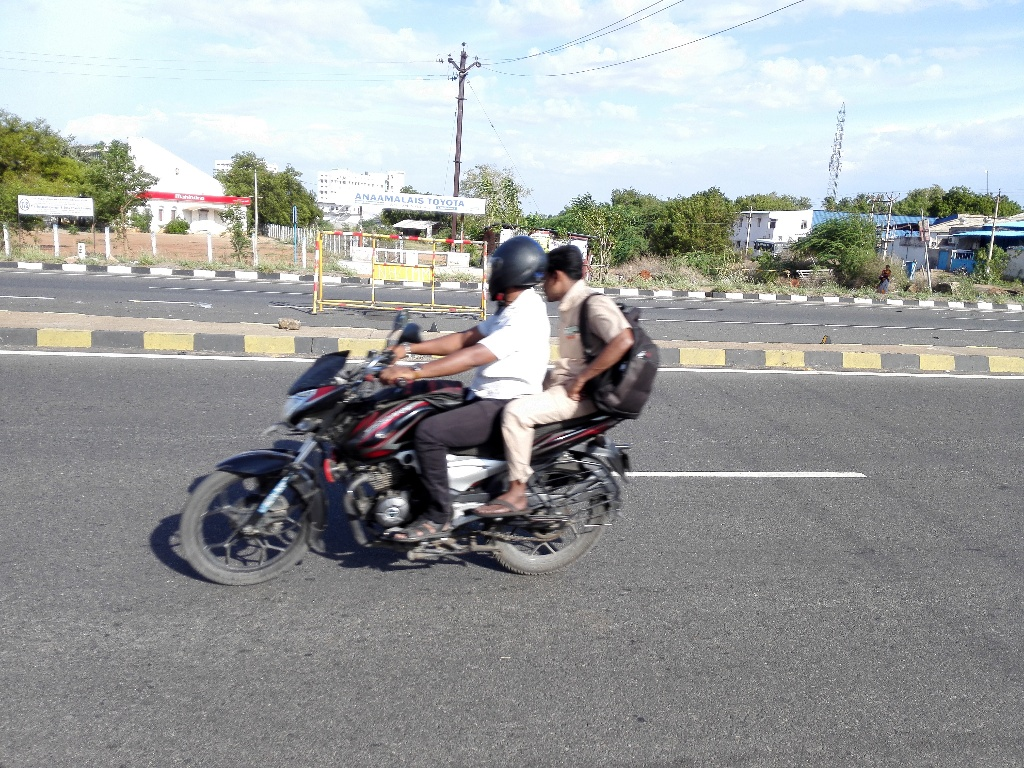biker: (163, 189, 701, 599)
helmet: (476, 230, 546, 312)
nohelmet: (546, 225, 590, 316)
